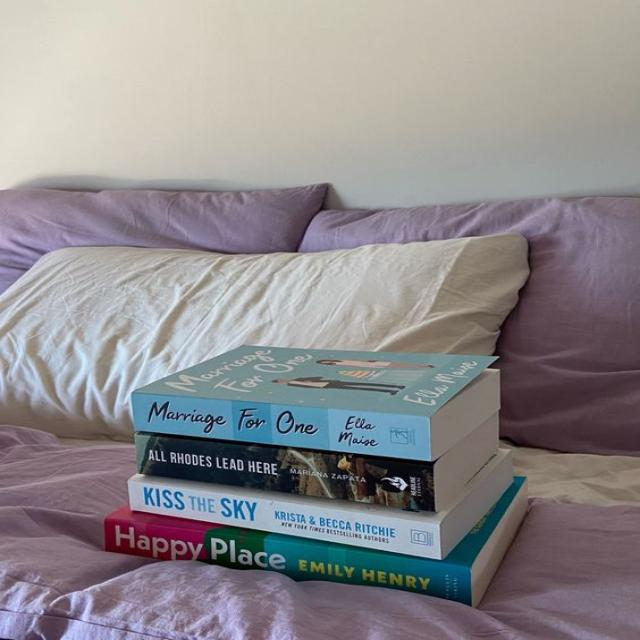book: (105, 515, 472, 605), (126, 483, 440, 560), (140, 435, 433, 511), (134, 395, 431, 458)
